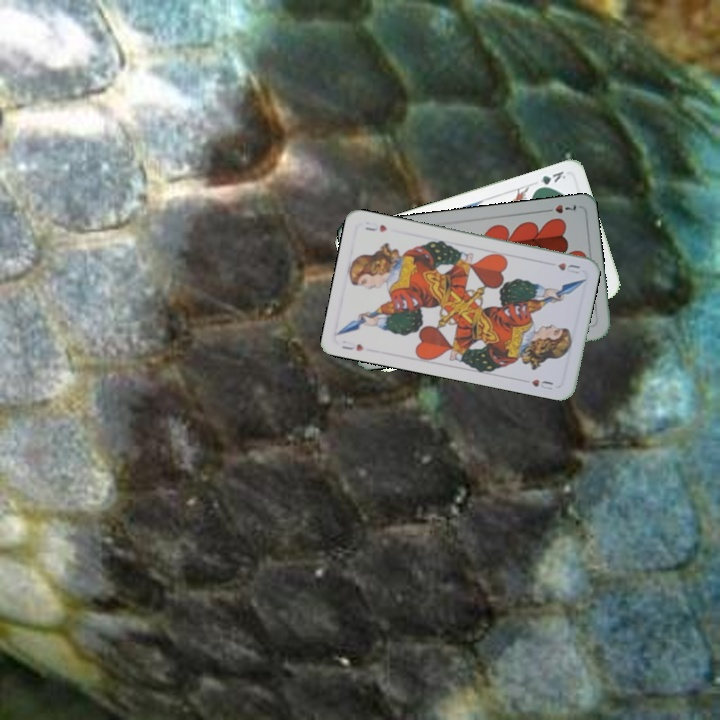GK: (531, 167, 568, 192)
H7: (540, 200, 579, 216)
HU: (338, 336, 367, 354), (554, 259, 582, 276)
